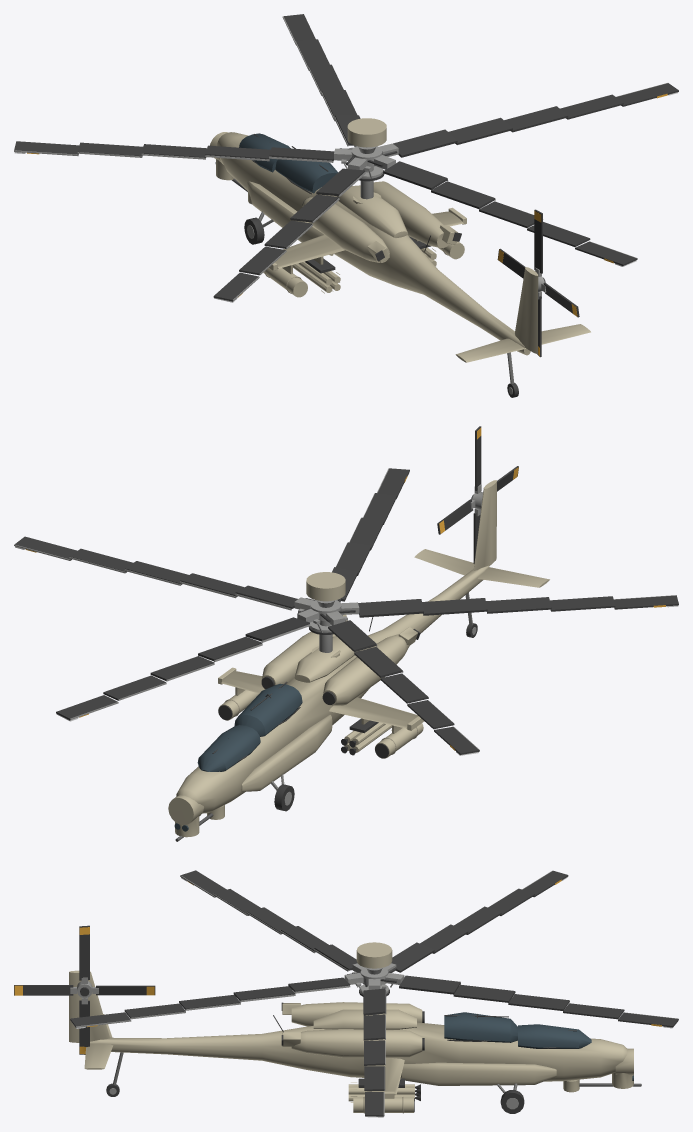
The model's file is rus_heli_mi28.glb.
3 renders of one model, top to bottom at view 1: azimuth 30°, elevation 25°; view 2: azimuth 150°, elevation 25°; view 3: azimuth 270°, elevation 25°, orthographic. The views are drawn at different scales.
Visible parts, largest first — view 1: body, rotor, trotor; view 2: body, rotor, trotor; view 3: body, rotor, trotor.
Boxes of the visible parts, box(x1,y1,x2,y2) form: body: box(210, 118, 590, 397); rotor: box(14, 14, 678, 302); trotor: box(497, 209, 579, 357); body: box(168, 480, 549, 841); rotor: box(14, 468, 678, 755); trotor: box(437, 426, 518, 563); body: box(69, 942, 641, 1113); rotor: box(70, 870, 678, 1117); trotor: box(14, 925, 155, 1054).
Bounding box in the file's own units: 15.73 × 5.23 × 18.06.
